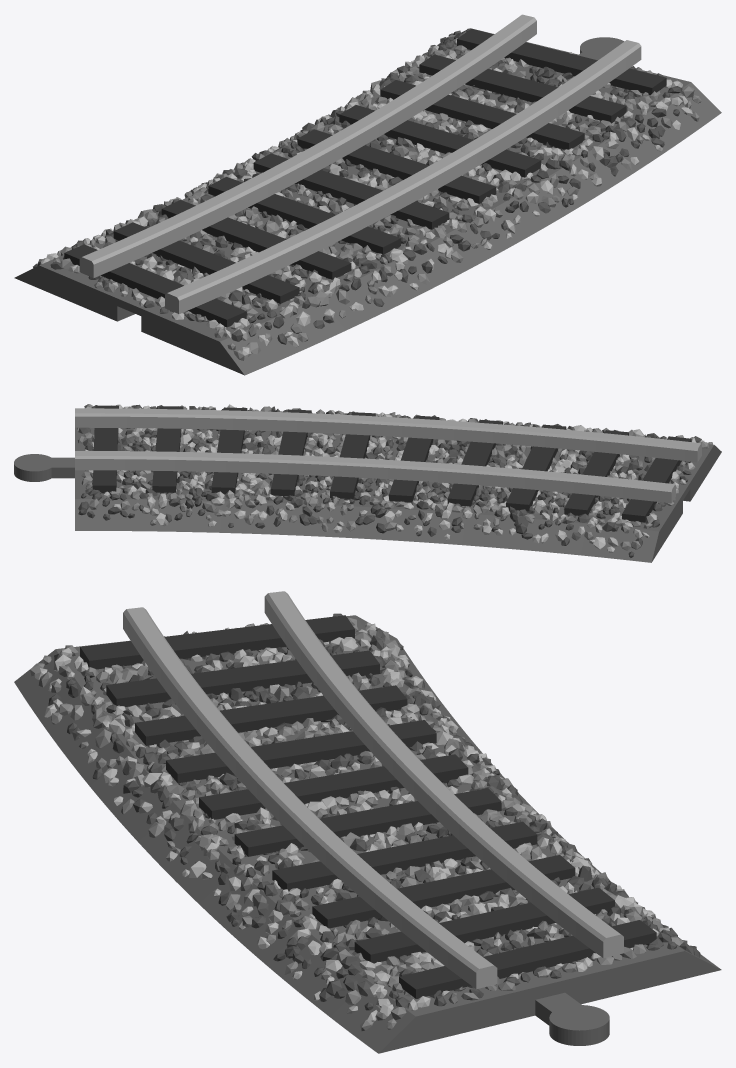
Rendered from Rail_Left_15_30.obj.
3 renders of one model, top to bottom at view 1: azimuth 30°, elevation 25°; view 2: azimuth 150°, elevation 25°; view 3: azimuth 270°, elevation 25°, orthographic. The views are drawn at different scales.
Visible parts, largest first — view 1: Rail_Left_15_30; view 2: Rail_Left_15_30; view 3: Rail_Left_15_30.
Boxes of the visible parts, x1=… form: Rail_Left_15_30: x1=14, y1=14, x2=721, y2=375; Rail_Left_15_30: x1=14, y1=404, x2=721, y2=562; Rail_Left_15_30: x1=14, y1=591, x2=721, y2=1053.
Bounding box in the file's own units: 1.14 × 0.08 × 0.821.
Materials: 1 (1 with a texture image).
